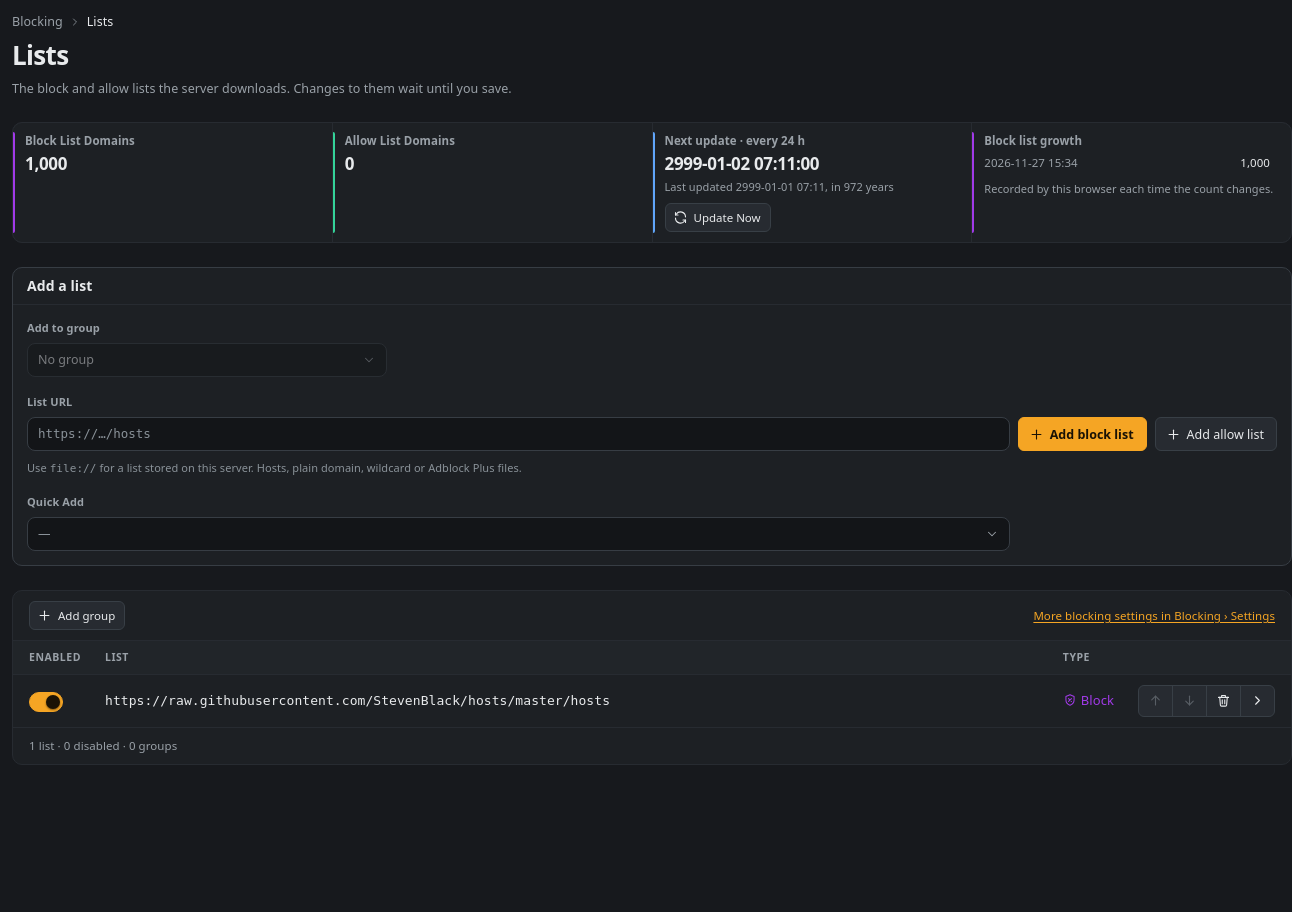
Test case: Save and Update Now › a failed save stops there: its message, no confirmation, no update
Step 1. Click the checkbox named "Enabled" → (46, 702), box [29,692,63,712]
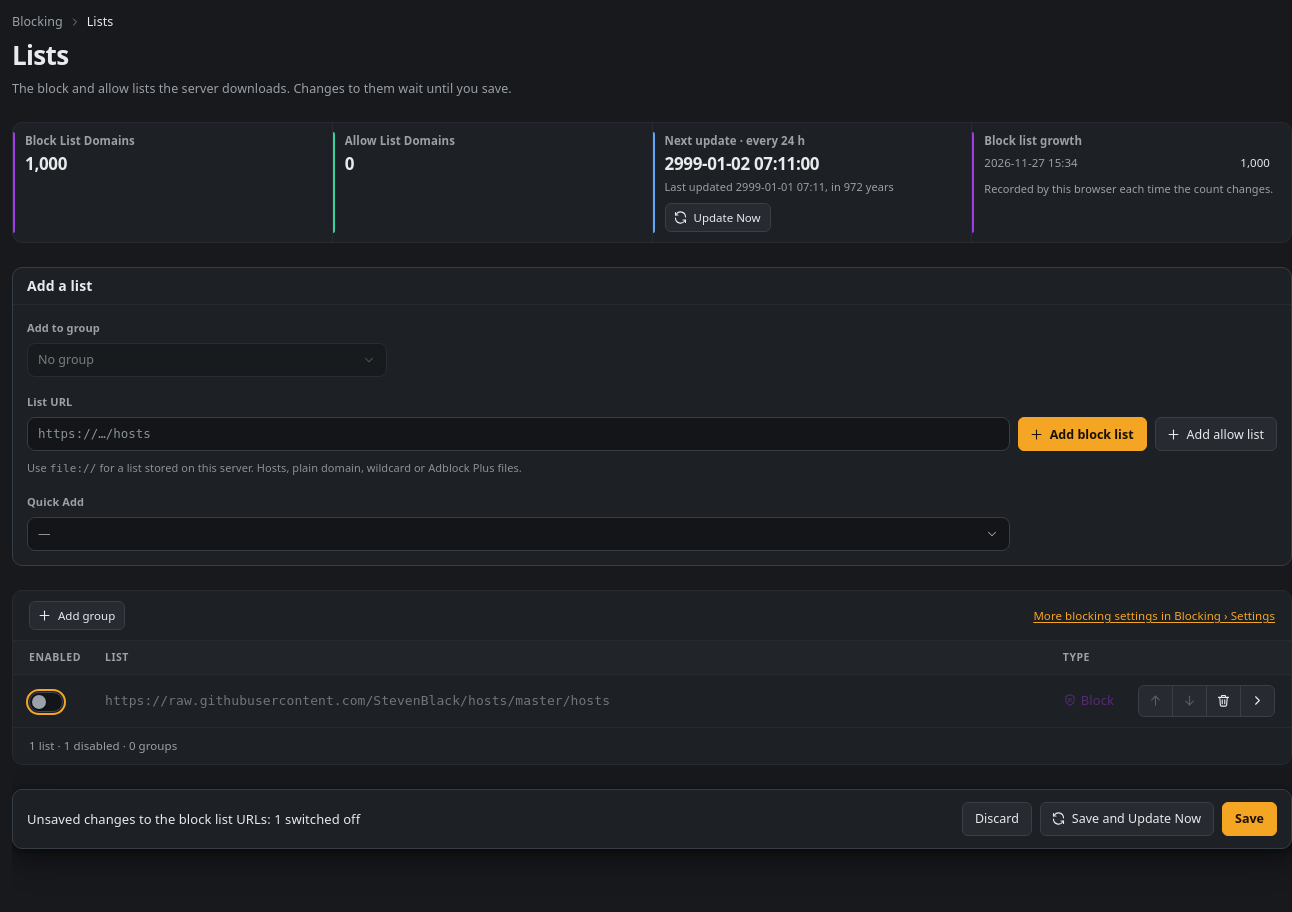
Step 2. Click the button "Save and Update Now" → (1127, 819), box [1040,802,1214,836]
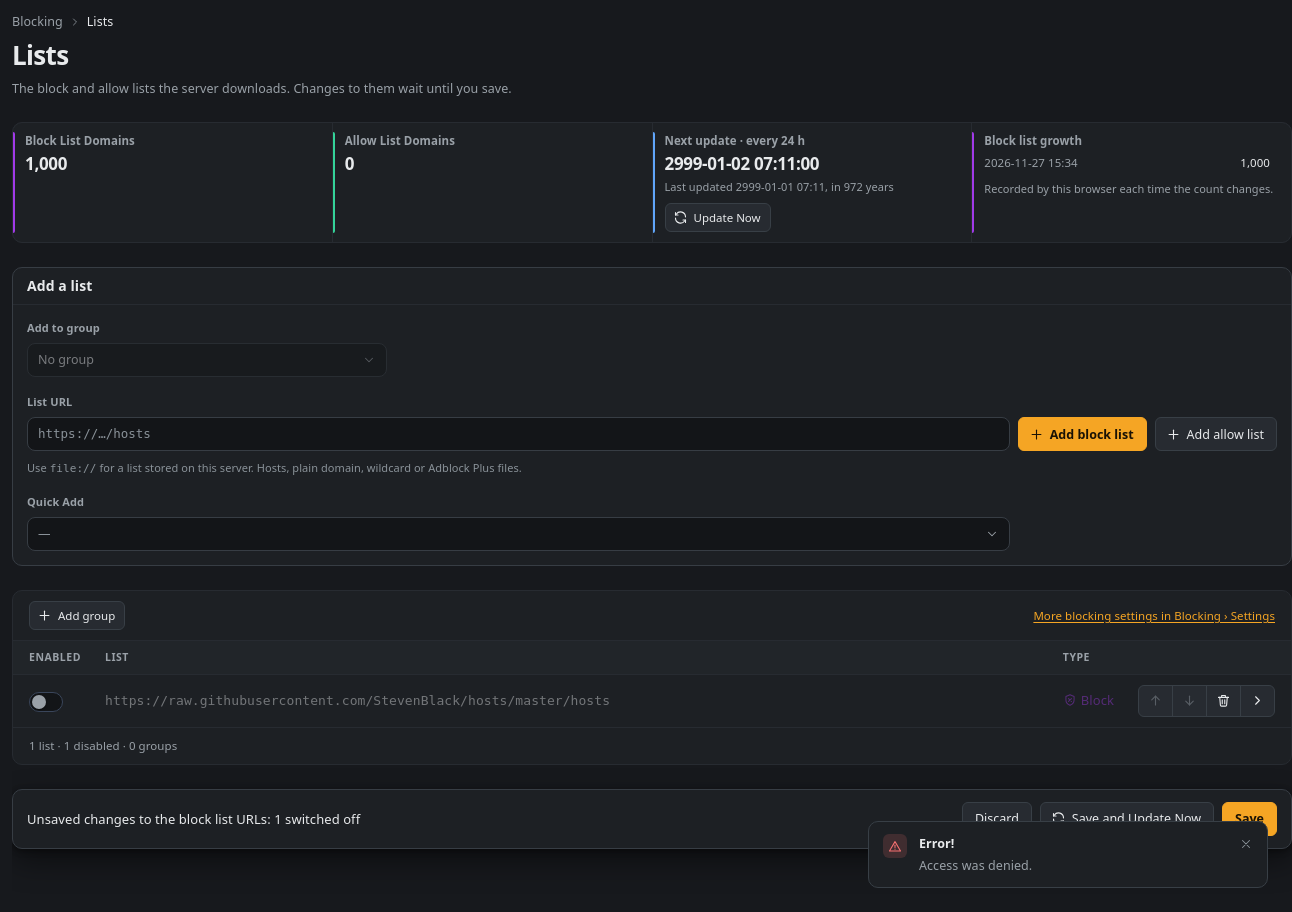
Result: the text "Unsaved changes to the block list URLs: 1 switched off" is shown at [27,808,360,829]
Result: the text "Access was denied." is shown at [919,857,1032,874]
